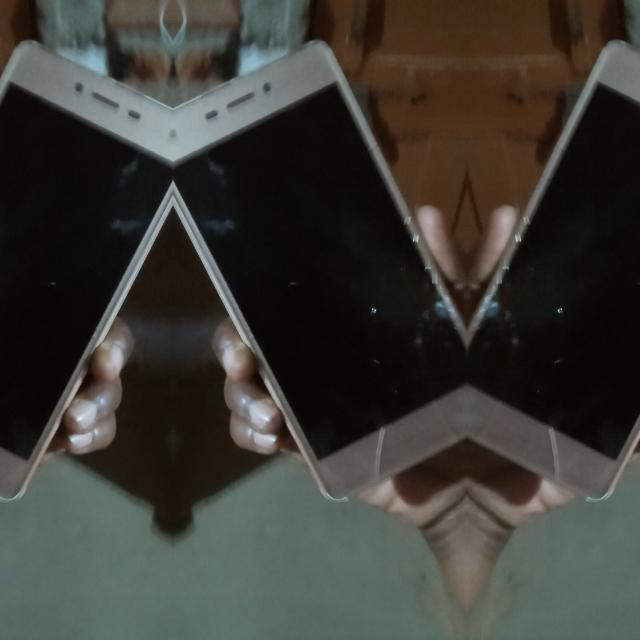phone_screen: (172, 85, 465, 459), (466, 85, 639, 459), (0, 85, 171, 459)
